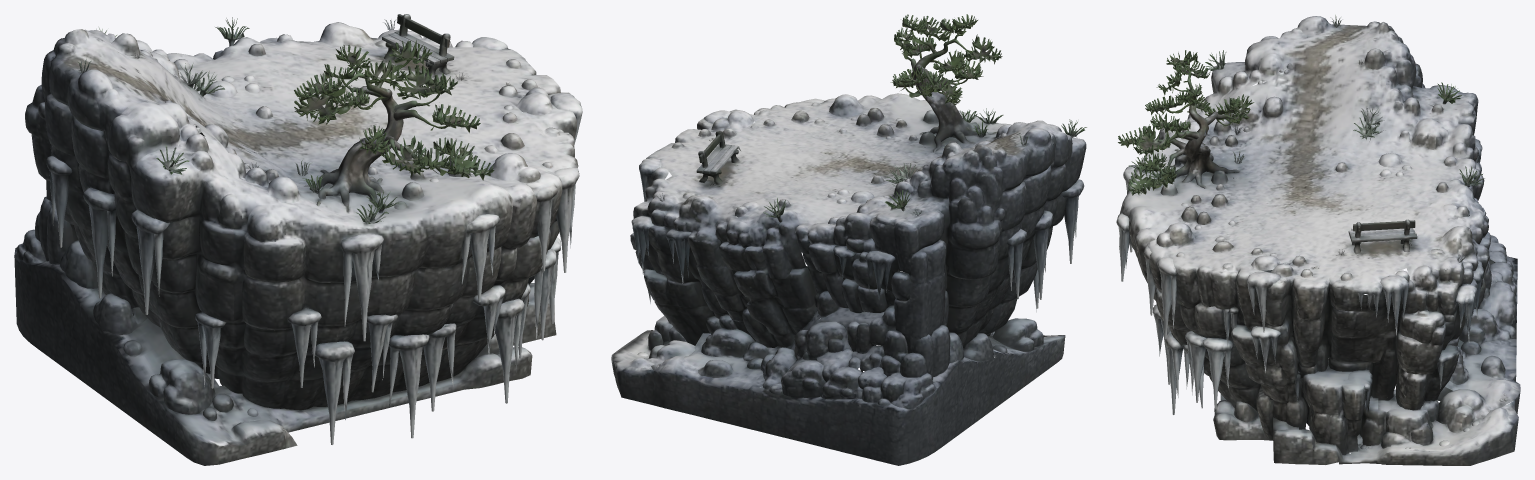
The model's file is ledge-4k.glb.
3 renders of one model, left to right at view 1: azimuth 30°, elevation 25°; view 2: azimuth 150°, elevation 25°; view 3: azimuth 270°, elevation 25°, orthographic. The views are drawn at different scales.
Visible parts, largest first — view 1: tripo_51c9447c_a01c_4ffa_a49d_f67a67541906; view 2: tripo_51c9447c_a01c_4ffa_a49d_f67a67541906; view 3: tripo_51c9447c_a01c_4ffa_a49d_f67a67541906.
Boxes of the visible parts, x1,y1,x2,y2 form: tripo_51c9447c_a01c_4ffa_a49d_f67a67541906: (14,14,582,465); tripo_51c9447c_a01c_4ffa_a49d_f67a67541906: (611,14,1086,465); tripo_51c9447c_a01c_4ffa_a49d_f67a67541906: (1116,15,1520,465).
Bounding box in the file's own units: 0.9995 × 0.7856 × 0.9234.
1 material, 1 textured.
